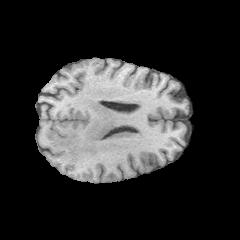glioma: (51, 104, 123, 160)
